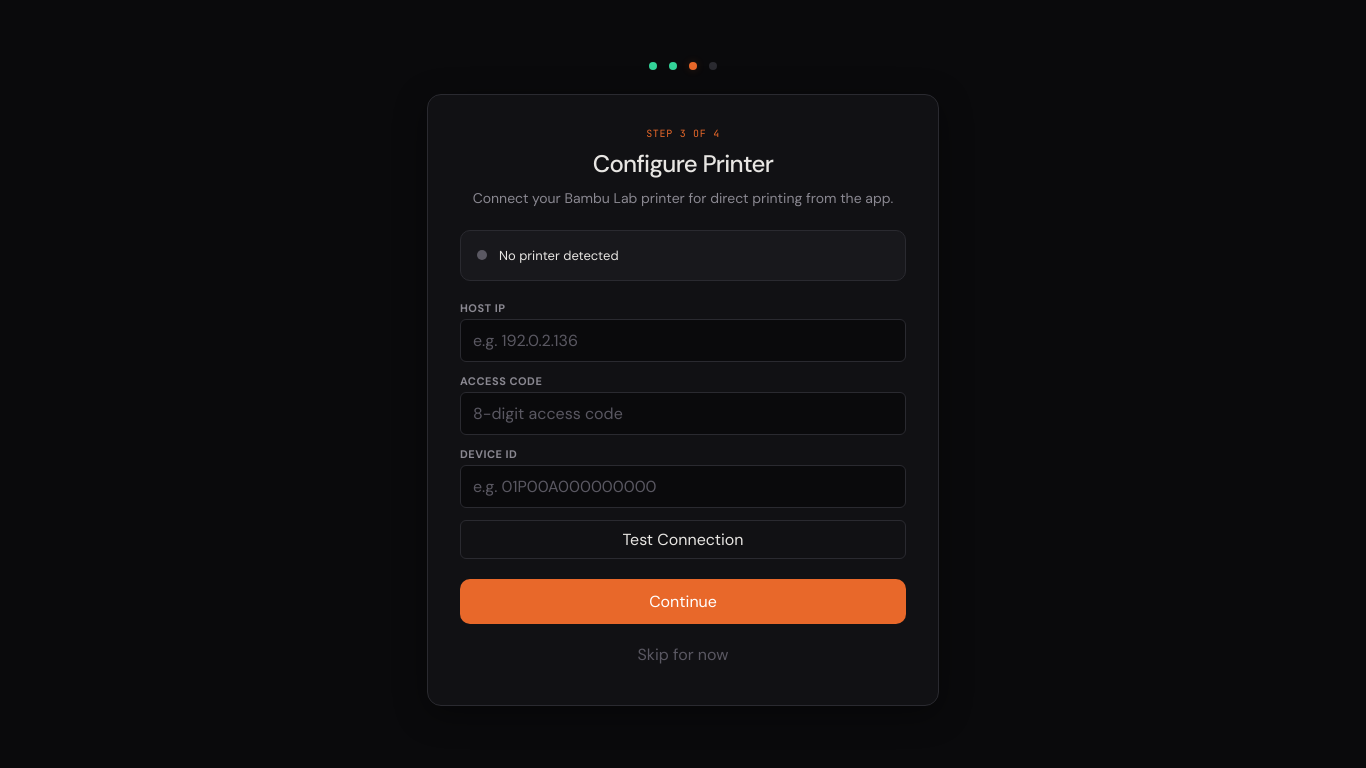
Test: OnboardingWizard › "Skip" on Bambu step advances to Complete step
Click the button with test id "btn-bambu-skip": (683, 654) x1=630 y1=636 x2=736 y2=673
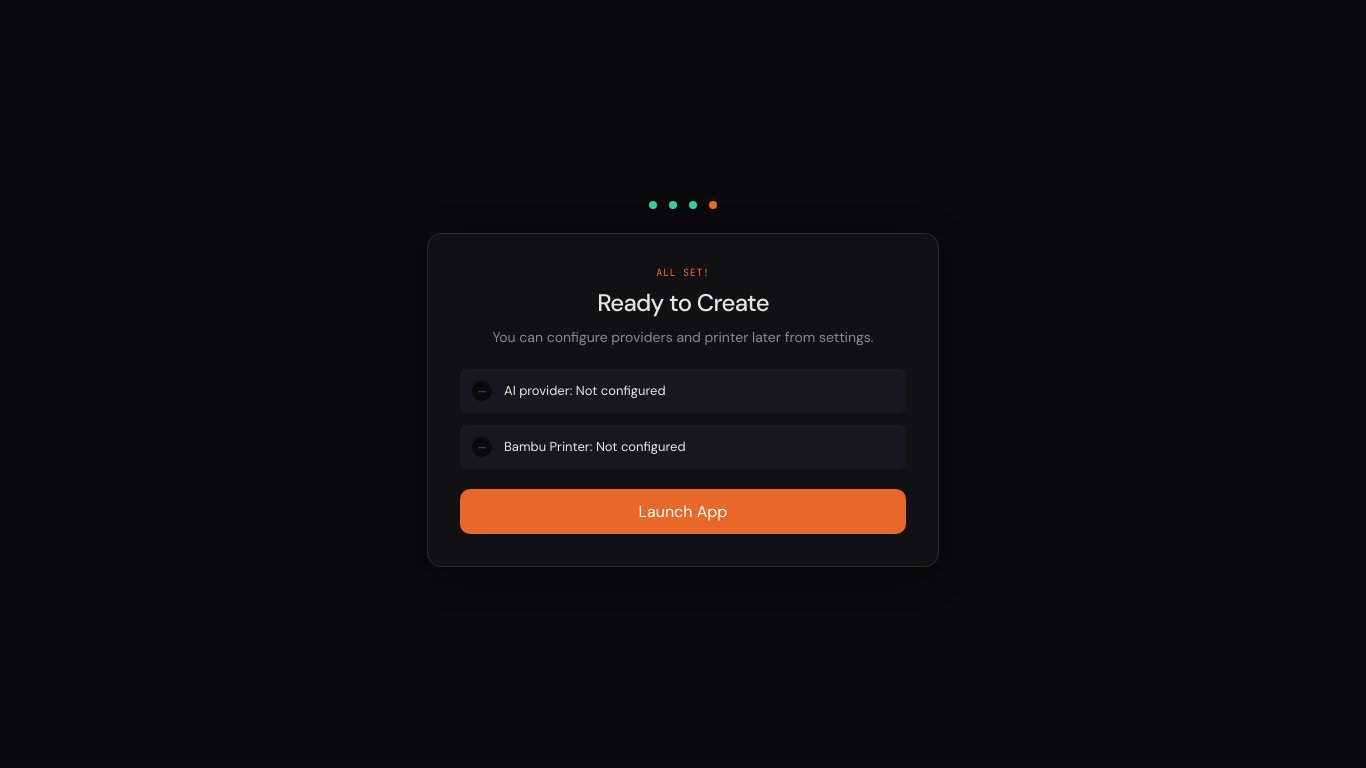
Check: the element with test id "step-complete" is shown, box x1=427 y1=233 x2=939 y2=567
